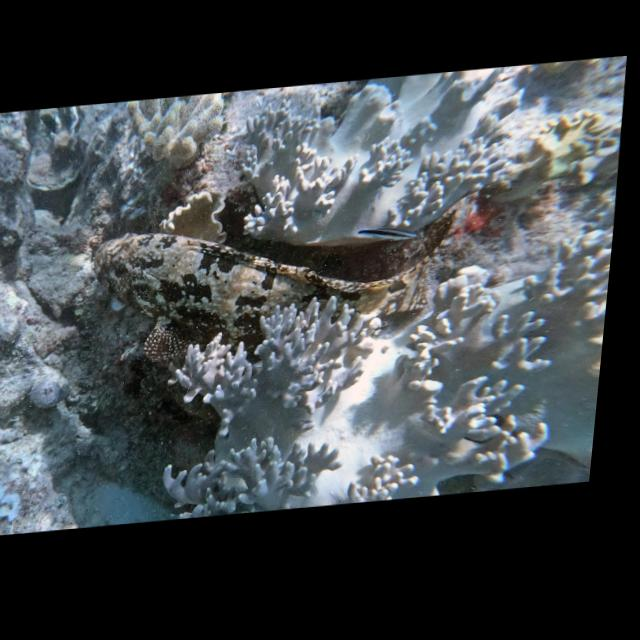Groupers: (85, 197, 482, 371)
